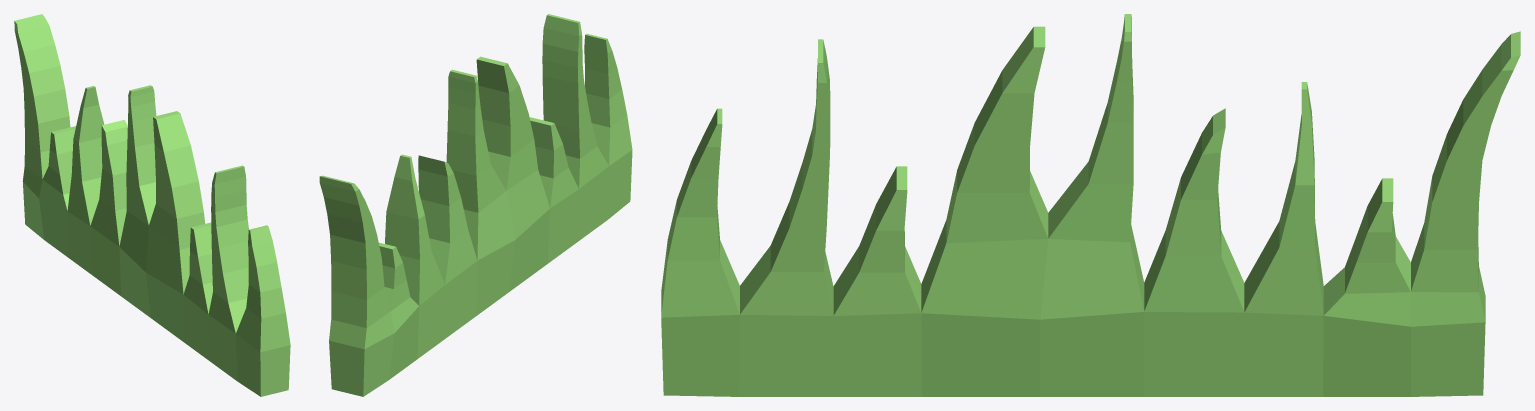
The model's file is grama4.fbx.
3 renders of one model, left to right at view 1: azimuth 30°, elevation 25°; view 2: azimuth 150°, elevation 25°; view 3: azimuth 270°, elevation 25°, orthographic. The views are drawn at different scales.
Parts seen in each view (by area): view 1: Cubo.002; view 2: Cubo.002; view 3: Cubo.002.
Part boxes in pixels (box(x1,y1,x2,y2)): Cubo.002: box(14, 14, 290, 396); Cubo.002: box(319, 14, 632, 396); Cubo.002: box(661, 14, 1520, 396).
Size of the model in its own units: 13.03 by 61.72 by 133.
